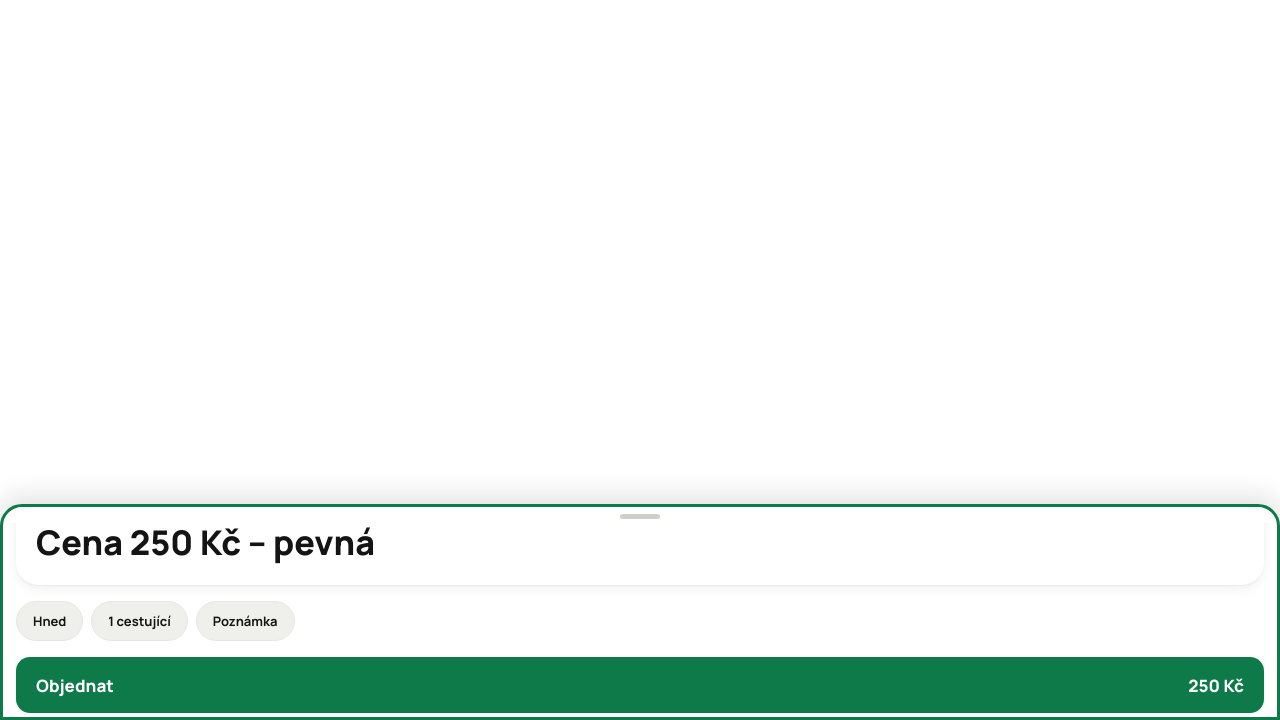
Test: PriceSheet › the passengers chip reflects the current count and opens the options sheet
The width and height of the screenshot is (1280, 720).
(page scrolled)
What coordinates should you click on to do the following:
click the button "1 cestující"
I would click on:
 (140, 621)
Its box is top-left (91, 601), bottom-right (188, 641).
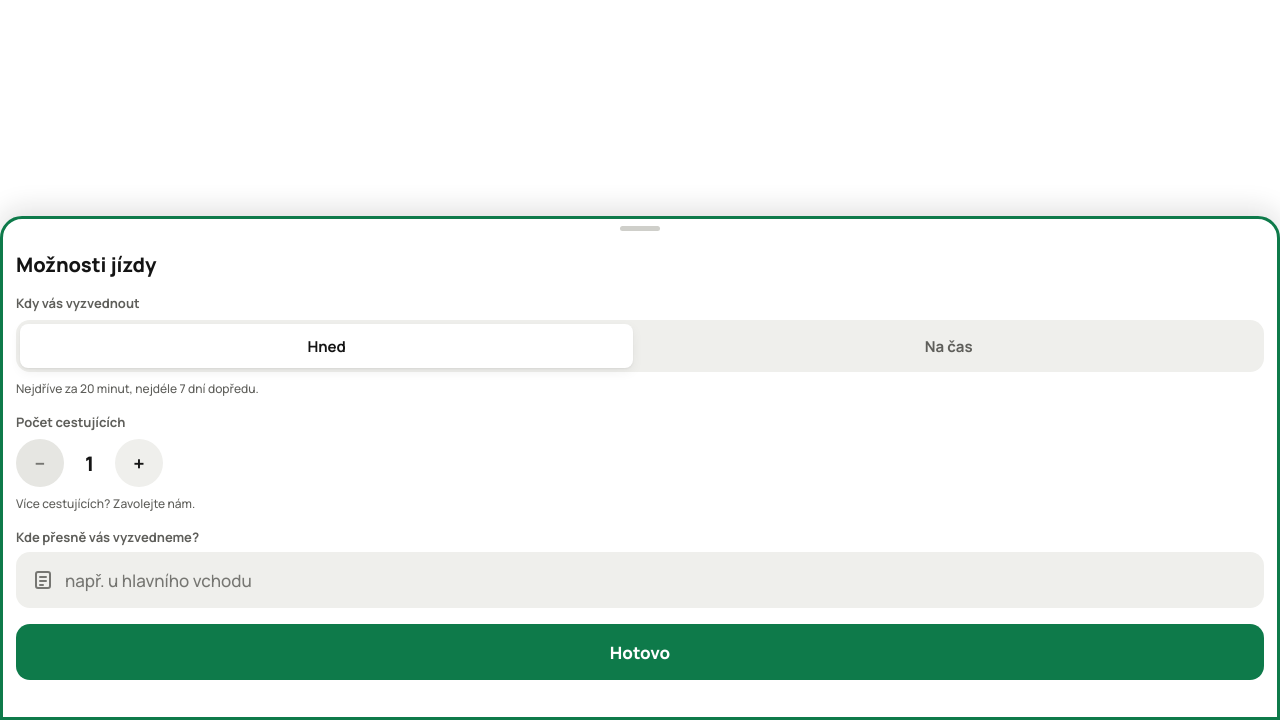
Now the text "Kdy vás vyzvednout" is shown, box top-left (16, 294), bottom-right (140, 312)
